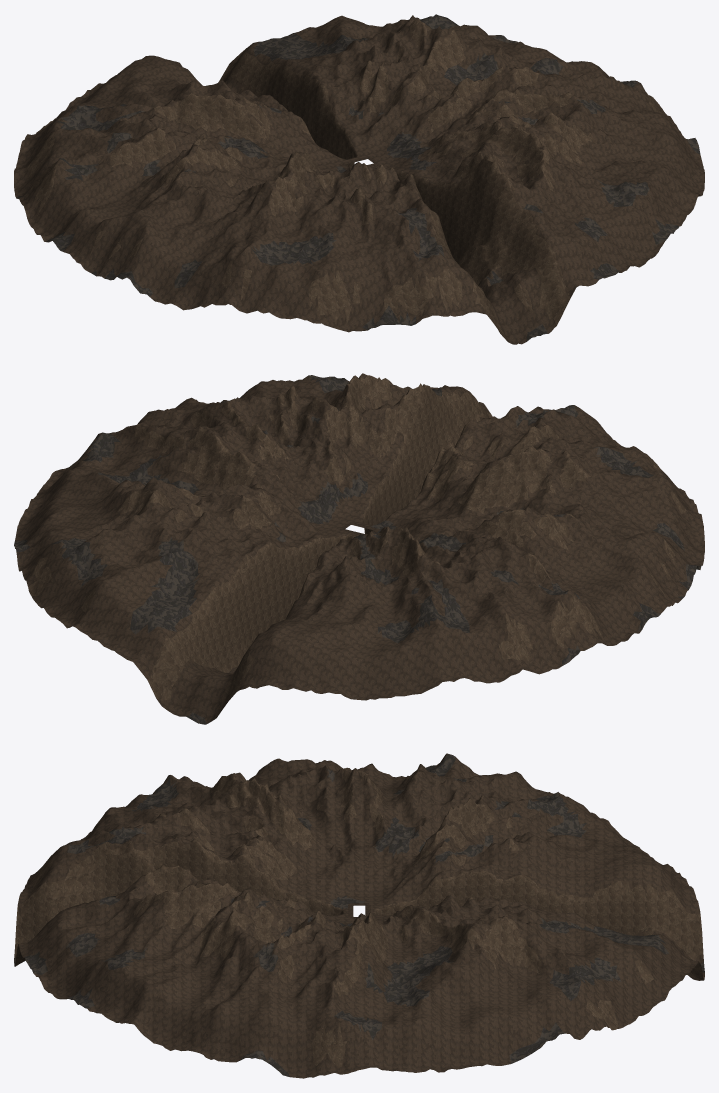
Rendered from backdrop_near_rect_duneW_dead.glb.
3 views of the same model, one above another, from view 1: azimuth 30°, elevation 25°; view 2: azimuth 150°, elevation 25°; view 3: azimuth 270°, elevation 25° (orthographic).
Parts seen in each view (by area): view 1: near_land_S, near_land_W, near_land_E, near_land_N; view 2: near_land_N, near_land_W, near_land_E, near_land_S; view 3: near_land_E, near_land_S, near_land_N, near_land_W.
Boxes of the visible parts, x1,y1,x2,y2 form: near_land_S: (269, 115, 693, 344); near_land_W: (14, 93, 346, 313); near_land_E: (362, 15, 704, 209); near_land_N: (26, 14, 440, 166); near_land_N: (26, 495, 451, 724); near_land_W: (376, 446, 704, 683); near_land_E: (14, 380, 358, 580); near_land_S: (277, 373, 688, 534); near_land_E: (116, 892, 603, 1078); near_land_S: (14, 794, 347, 1022); near_land_N: (371, 798, 704, 1030); near_land_W: (140, 753, 602, 906).
Bounding box in the file's own units: 576 × 168 × 576.
Materials: 3 (3 with a texture image).
